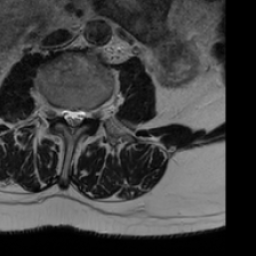CCS_normal: (69, 97, 77, 142)
LFS_normal: (86, 97, 95, 128)
LLS_normal: (77, 99, 86, 132)
RFS_normal: (50, 95, 60, 128)
RLS_normal: (60, 97, 69, 130)
